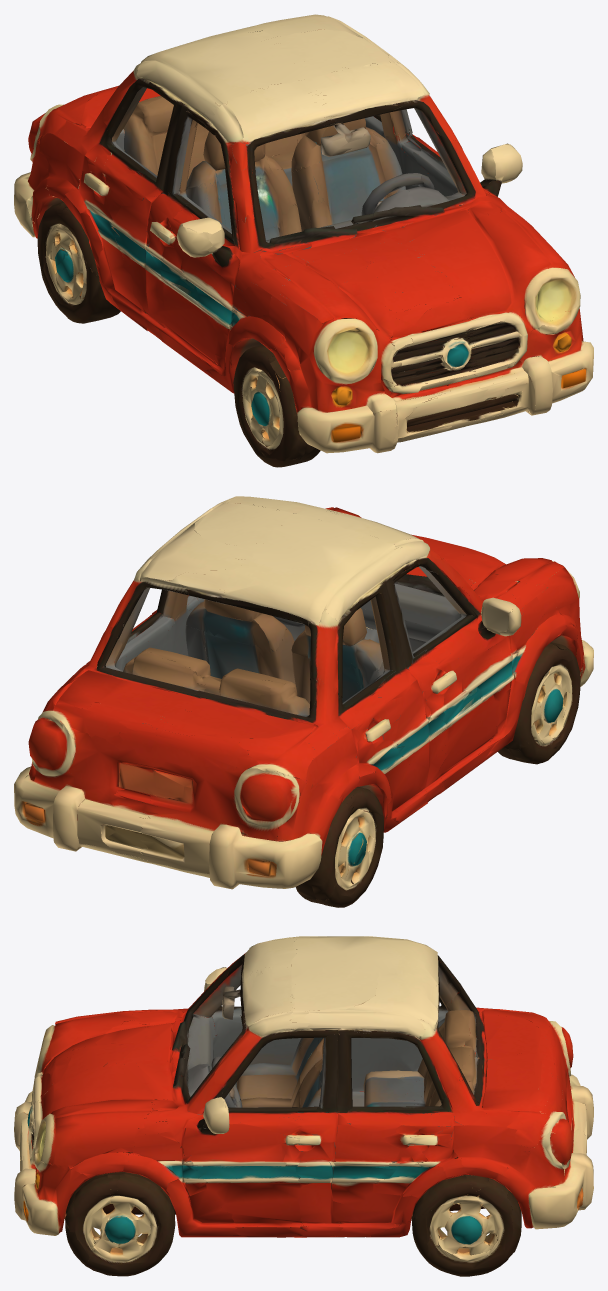
Rendered from GameCartoonCar.fbx.
The picture shows the model from 3 angles, top to bottom: view 1: azimuth 30°, elevation 25°; view 2: azimuth 150°, elevation 25°; view 3: azimuth 270°, elevation 25°; orthographic projection. The views are drawn at different scales.
Visible parts, largest first — view 1: GameCartoonCar; view 2: GameCartoonCar; view 3: GameCartoonCar.
Boxes of the visible parts, bbox=[...] form: GameCartoonCar: bbox=[14, 14, 593, 467]; GameCartoonCar: bbox=[14, 496, 593, 907]; GameCartoonCar: bbox=[14, 936, 593, 1276].
Size of the model in its own units: 208 by 166 by 350.
